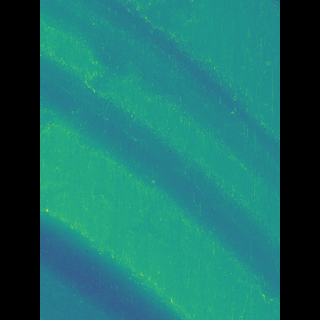Loch: (69, 0, 249, 298), (70, 206, 185, 320)
